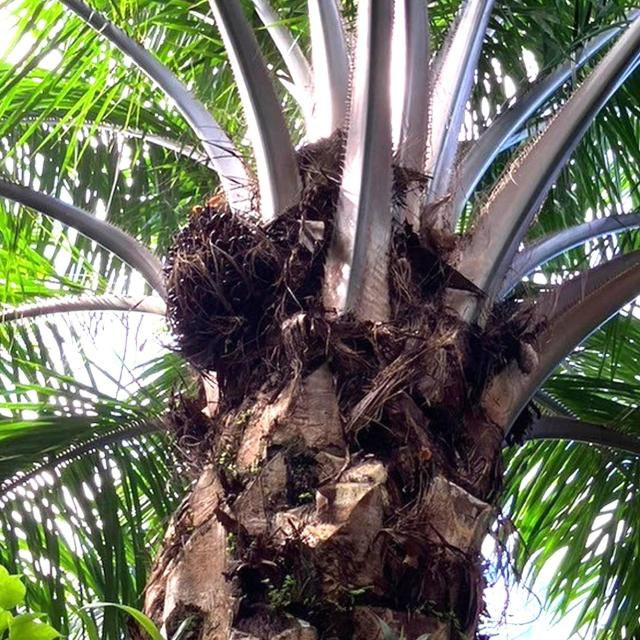ripe: (154, 189, 302, 379)
